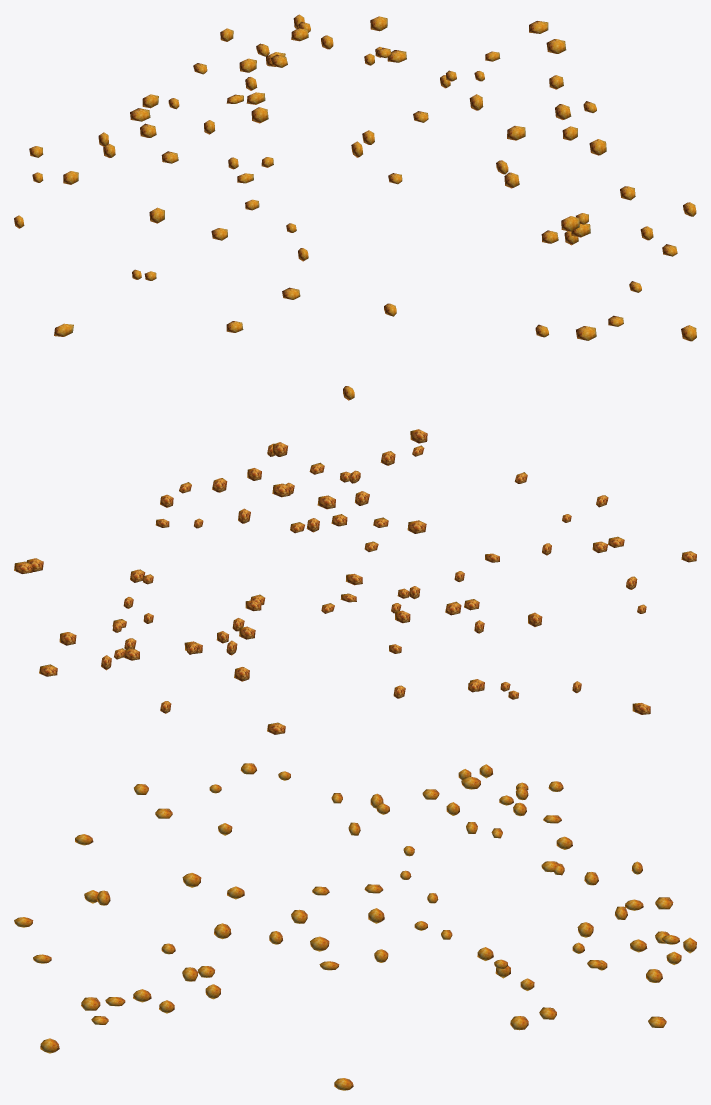
Rendered from sides-crumbs.glb.
3 views of the same model, one above another, from view 1: azimuth 30°, elevation 25°; view 2: azimuth 150°, elevation 25°; view 3: azimuth 270°, elevation 25° (orthographic). The views are drawn at different scales.
Parts seen in each view (by area): view 1: Toasted breadcrumb; view 2: Toasted breadcrumb; view 3: Toasted breadcrumb.
Boxes of the visible parts, x1,y1,x2,y2 form: Toasted breadcrumb: (14,14,696,400); Toasted breadcrumb: (14,429,696,734); Toasted breadcrumb: (14,763,696,1090).
Size of the model in its own units: 1.69 by 0.3769 by 1.75.
1 material, 1 textured.
